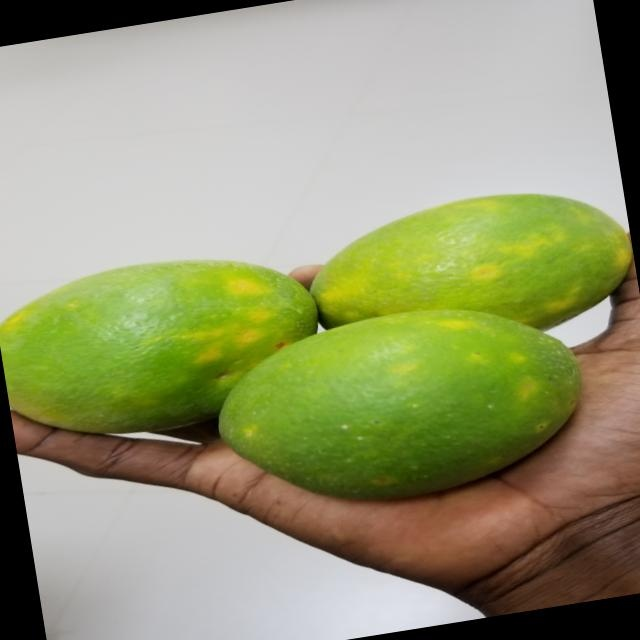agrume: (184, 281, 608, 535), (0, 232, 328, 460), (285, 177, 639, 364)
